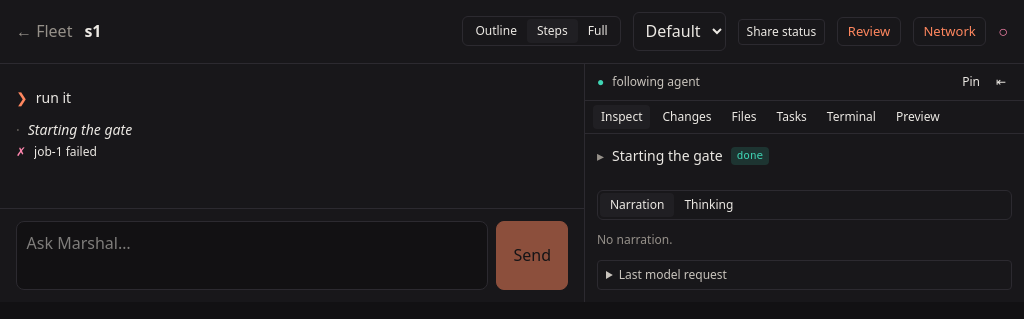
it: Chat › stack transcript › opens a folded beat when its completion marker is clicked, then scrolls to the card
Click the text "job-1 failed". click: [66, 152]
box: 34,144 -> 97,160
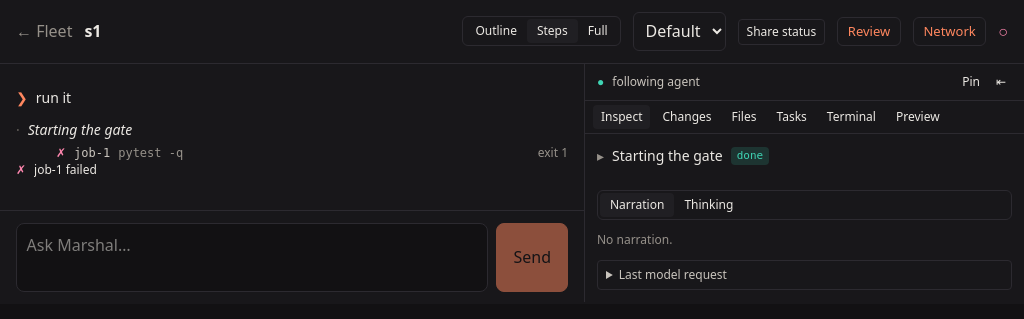
Expected: the element showing "✗ job-1 pytest -q exit 1" is shown, 56,144 -> 568,162
